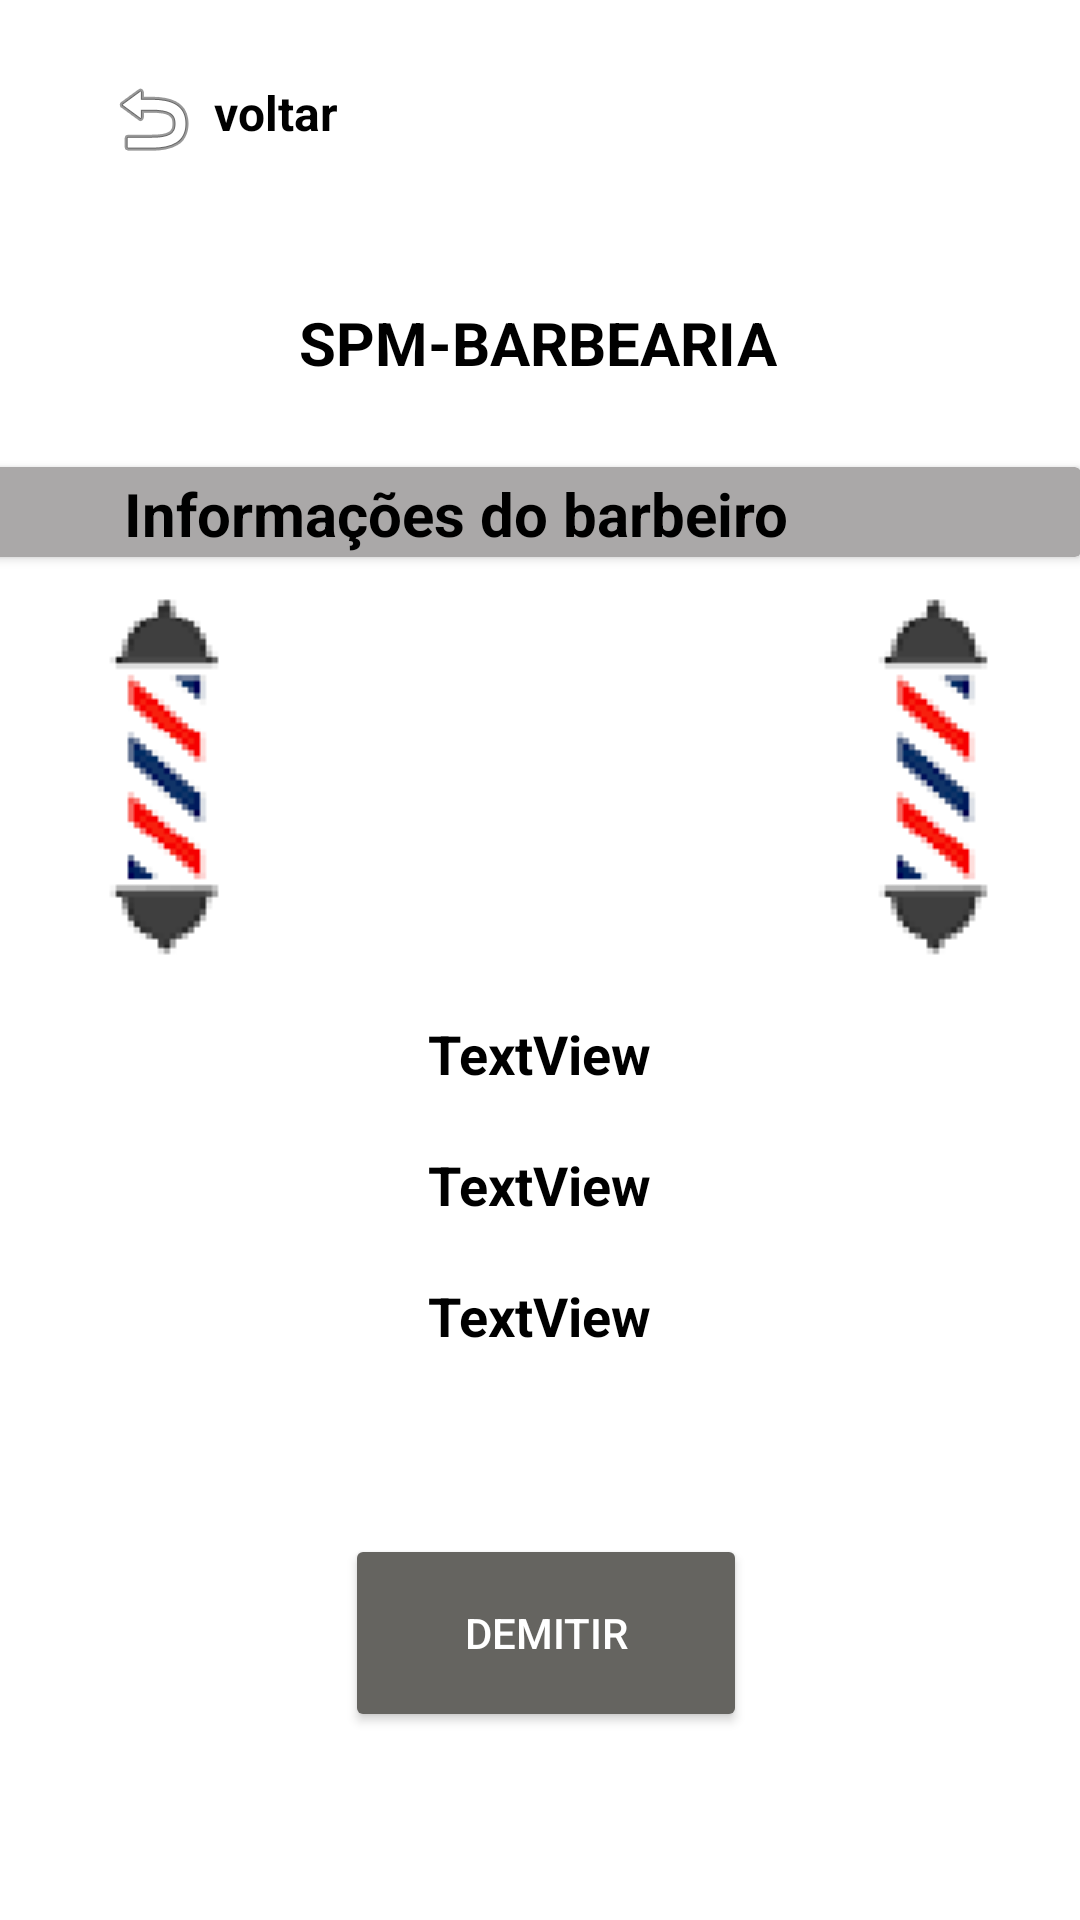

Named icons in this screenshot (1080px×1920px) and their centers, [x,y]:
barbearia: [167,777], [936,777]
revert: [178,119]
